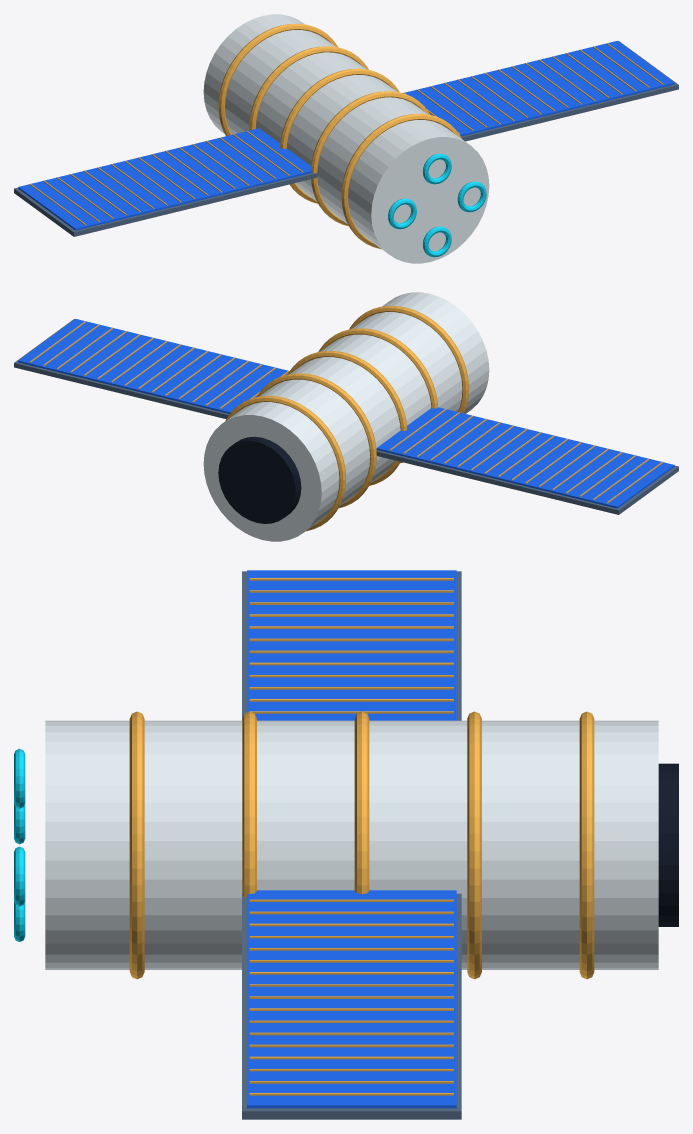
Rendered from 03_L91_Aurora1DeepSpaceSpacecraft.fbx.
The picture shows the model from 3 angles, top to bottom: view 1: azimuth 30°, elevation 25°; view 2: azimuth 150°, elevation 25°; view 3: azimuth 270°, elevation 25°; orthographic projection. The views are drawn at different scales.
Parts seen in each view (by area): view 1: L91_Aurora1DeepSpaceSpacecraft_Part_0000, L91_Aurora1DeepSpaceSpacecraft_Part_0006, L91_Aurora1DeepSpaceSpacecraft_Part_0002, L91_Aurora1DeepSpaceSpacecraft_Part_0005, L91_Aurora1DeepSpaceSpacecraft_Part_0003, L91_Aurora1DeepSpaceSpacecraft_Part_0007, L91_Aurora1DeepSpaceSpacecraft_Part_0004; view 2: L91_Aurora1DeepSpaceSpacecraft_Part_0000, L91_Aurora1DeepSpaceSpacecraft_Part_0006, L91_Aurora1DeepSpaceSpacecraft_Part_0002, L91_Aurora1DeepSpaceSpacecraft_Part_0001, L91_Aurora1DeepSpaceSpacecraft_Part_0005, L91_Aurora1DeepSpaceSpacecraft_Part_0003, L91_Aurora1DeepSpaceSpacecraft_Part_0004; view 3: L91_Aurora1DeepSpaceSpacecraft_Part_0000, L91_Aurora1DeepSpaceSpacecraft_Part_0006, L91_Aurora1DeepSpaceSpacecraft_Part_0002, L91_Aurora1DeepSpaceSpacecraft_Part_0003, L91_Aurora1DeepSpaceSpacecraft_Part_0005, L91_Aurora1DeepSpaceSpacecraft_Part_0004, L91_Aurora1DeepSpaceSpacecraft_Part_0001, L91_Aurora1DeepSpaceSpacecraft_Part_0007.
Part boxes in pixels (left/top/right/bottom): L91_Aurora1DeepSpaceSpacecraft_Part_0000: left=203, top=14, right=489, bottom=263; L91_Aurora1DeepSpaceSpacecraft_Part_0006: left=18, top=40, right=674, bottom=230; L91_Aurora1DeepSpaceSpacecraft_Part_0002: left=111, top=23, right=461, bottom=249; L91_Aurora1DeepSpaceSpacecraft_Part_0005: left=14, top=41, right=678, bottom=236; L91_Aurora1DeepSpaceSpacecraft_Part_0003: left=29, top=66, right=568, bottom=225; L91_Aurora1DeepSpaceSpacecraft_Part_0007: left=388, top=153, right=486, bottom=257; L91_Aurora1DeepSpaceSpacecraft_Part_0004: left=525, top=43, right=663, bottom=104; L91_Aurora1DeepSpaceSpacecraft_Part_0000: left=203, top=292, right=489, bottom=541; L91_Aurora1DeepSpaceSpacecraft_Part_0006: left=18, top=318, right=674, bottom=508; L91_Aurora1DeepSpaceSpacecraft_Part_0002: left=225, top=306, right=581, bottom=531; L91_Aurora1DeepSpaceSpacecraft_Part_0001: left=218, top=436, right=301, bottom=523; L91_Aurora1DeepSpaceSpacecraft_Part_0005: left=14, top=319, right=678, bottom=514; L91_Aurora1DeepSpaceSpacecraft_Part_0003: left=124, top=344, right=663, bottom=503; L91_Aurora1DeepSpaceSpacecraft_Part_0004: left=29, top=321, right=167, bottom=382; L91_Aurora1DeepSpaceSpacecraft_Part_0000: left=45, top=720, right=658, bottom=969; L91_Aurora1DeepSpaceSpacecraft_Part_0006: left=247, top=570, right=456, bottom=1108; L91_Aurora1DeepSpaceSpacecraft_Part_0002: left=129, top=650, right=594, bottom=979; L91_Aurora1DeepSpaceSpacecraft_Part_0003: left=249, top=578, right=453, bottom=1010; L91_Aurora1DeepSpaceSpacecraft_Part_0005: left=242, top=571, right=461, bottom=1119; L91_Aurora1DeepSpaceSpacecraft_Part_0004: left=249, top=1020, right=453, bottom=1095; L91_Aurora1DeepSpaceSpacecraft_Part_0001: left=658, top=763, right=678, bottom=926; L91_Aurora1DeepSpaceSpacecraft_Part_0007: left=14, top=748, right=25, bottom=941.
Size of the model in its own units: 1250 by 262 by 650.
